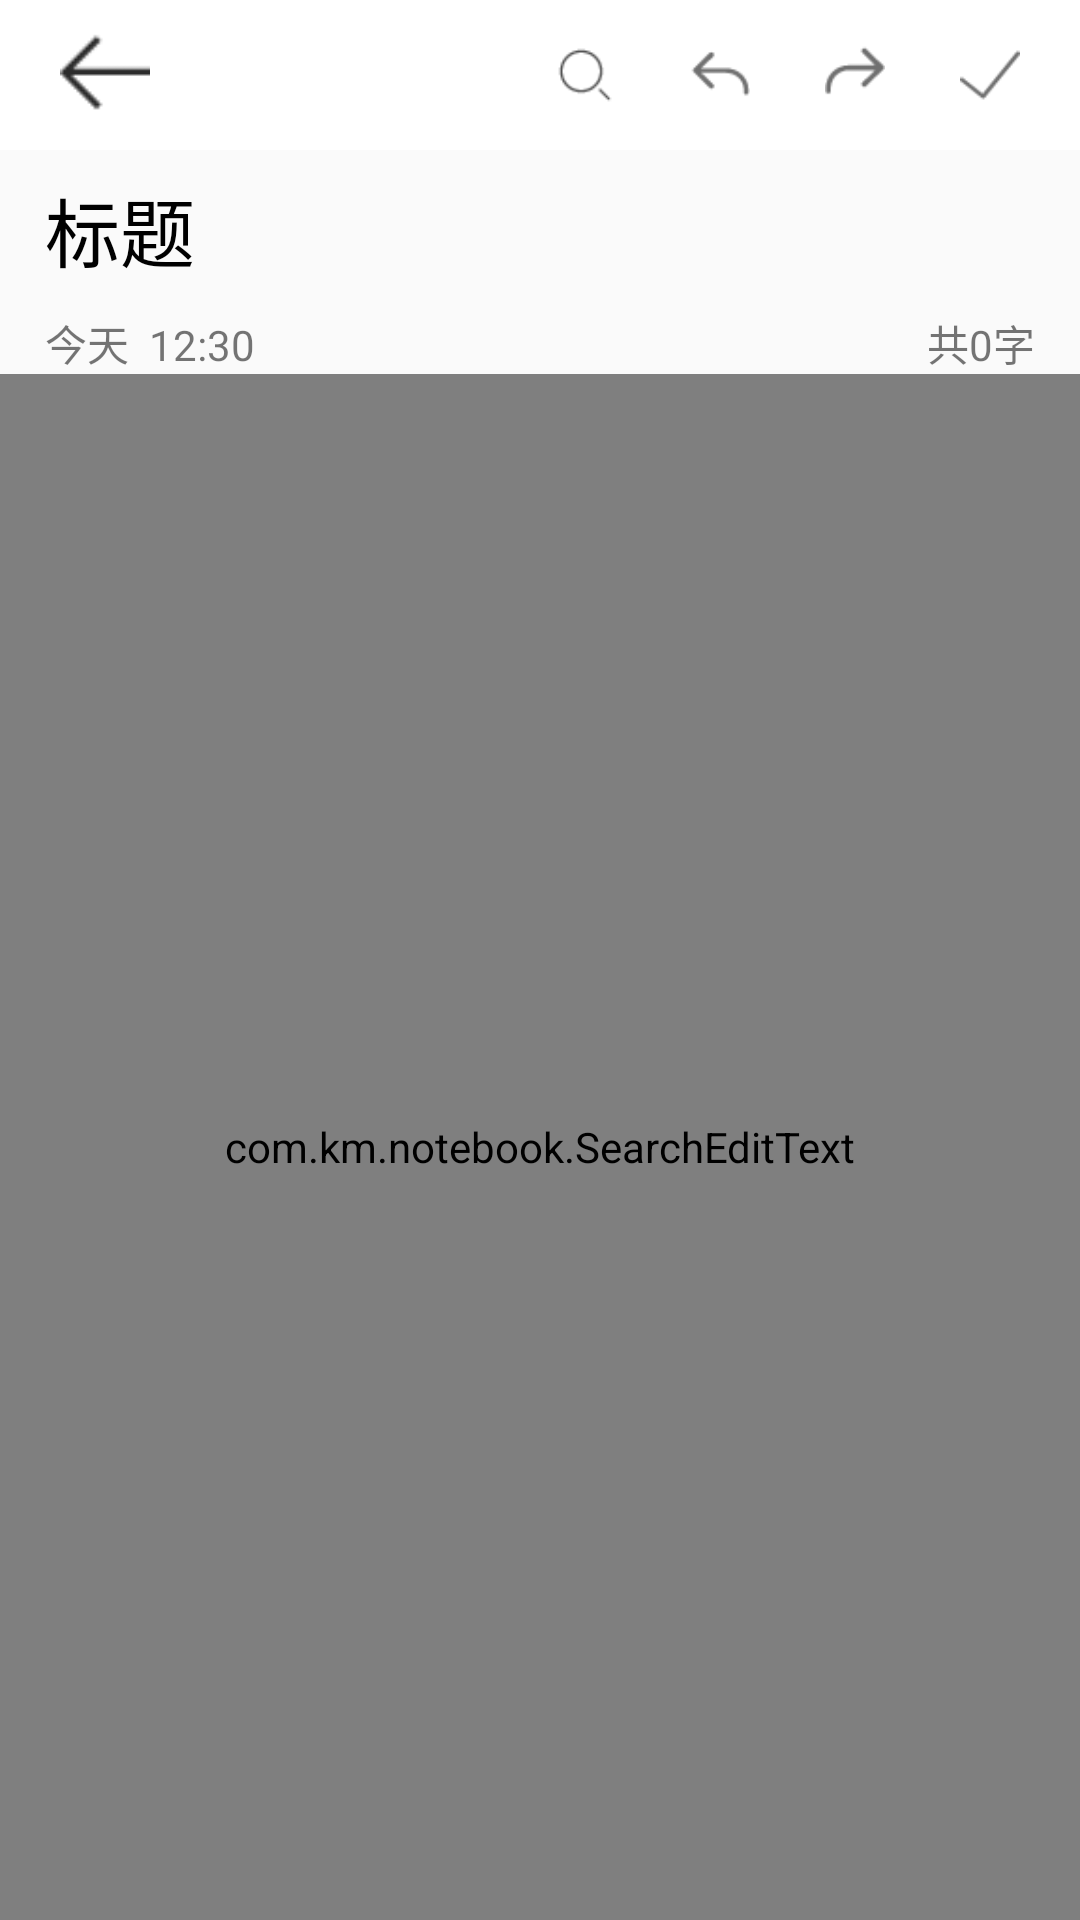

Icons on this 1080px×1920px Android screen, each with its box as (x1, y1, x2, y2):
back: (60, 35, 150, 110)
confirm: (960, 50, 1020, 100)
rescind: (692, 52, 750, 96)
reverse rescind: (825, 48, 885, 94)
searchbtn: (559, 49, 611, 101)
